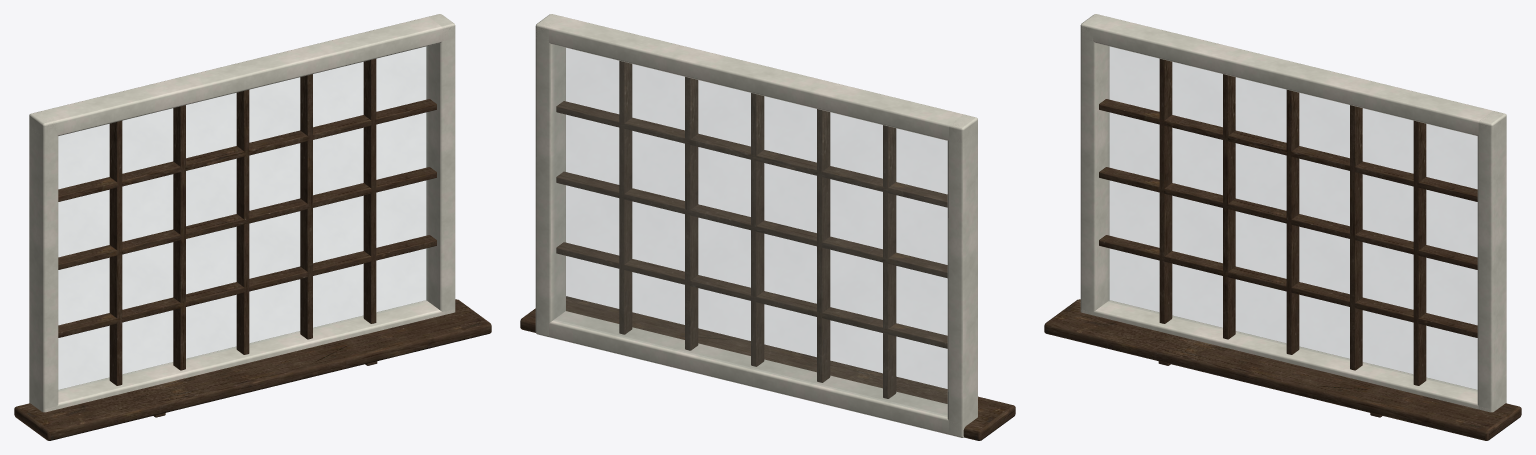
Rendered from PROP_MorningWhite_Window_Morning.glb.
3 views of the same model, side by side, from view 1: azimuth 30°, elevation 25°; view 2: azimuth 150°, elevation 25°; view 3: azimuth 330°, elevation 25° (orthographic). The views are drawn at different scales.
Visible parts, largest first — view 1: PROP_MorningWhite_Window_Morning; view 2: PROP_MorningWhite_Window_Morning; view 3: PROP_MorningWhite_Window_Morning.
Boxes of the visible parts, left/top/right/bottom form: PROP_MorningWhite_Window_Morning: left=14, top=14, right=491, bottom=440; PROP_MorningWhite_Window_Morning: left=520, top=14, right=1015, bottom=440; PROP_MorningWhite_Window_Morning: left=1044, top=14, right=1521, bottom=440.
Bounding box in the file's own units: 1.68 × 1.1 × 0.235.
Materials: 3 (3 with a texture image).
